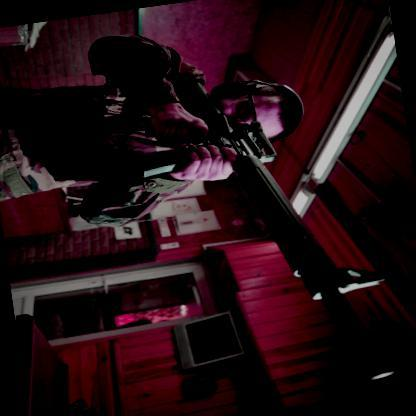rifle: (117, 37, 410, 412)
